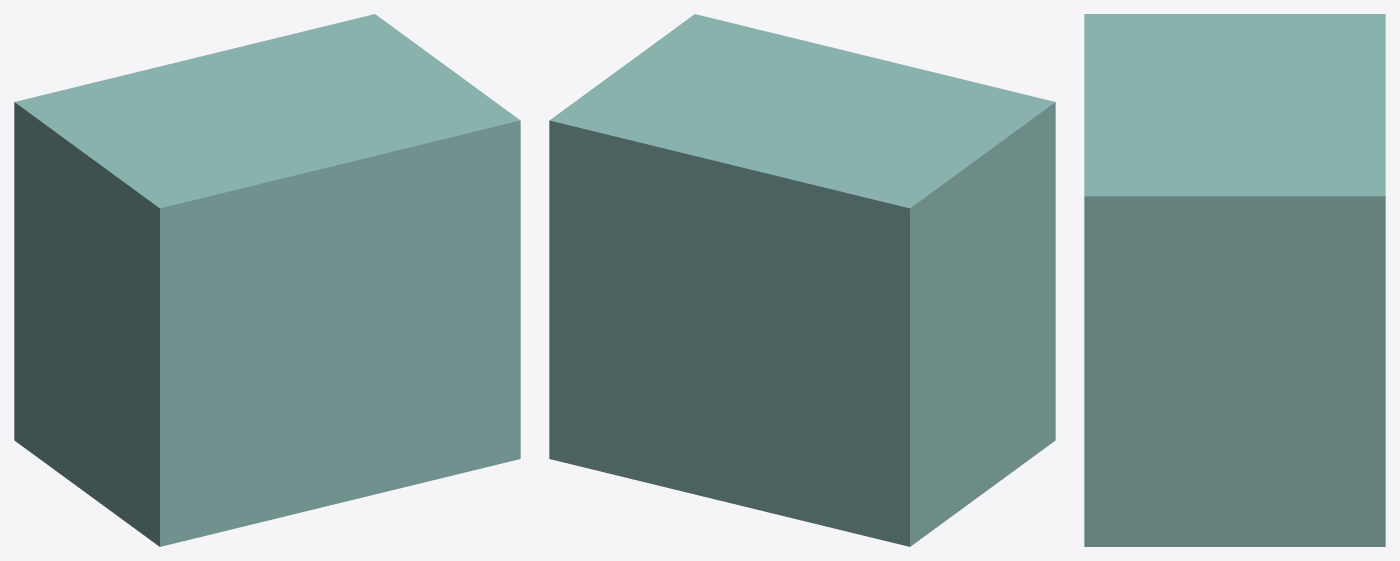
File: Wall.FBX
3 views of the same model, side by side, from view 1: azimuth 30°, elevation 25°; view 2: azimuth 150°, elevation 25°; view 3: azimuth 270°, elevation 25° (orthographic). The views are drawn at different scales.
Parts seen in each view (by area): view 1: Box001; view 2: Box001; view 3: Box001.
Boxes of the visible parts, <box> form: Box001: <box>14,14,520,546</box>; Box001: <box>549,14,1055,546</box>; Box001: <box>1084,14,1385,546</box>.
Bounding box in the file's own units: 20014 × 17952 × 13981.
